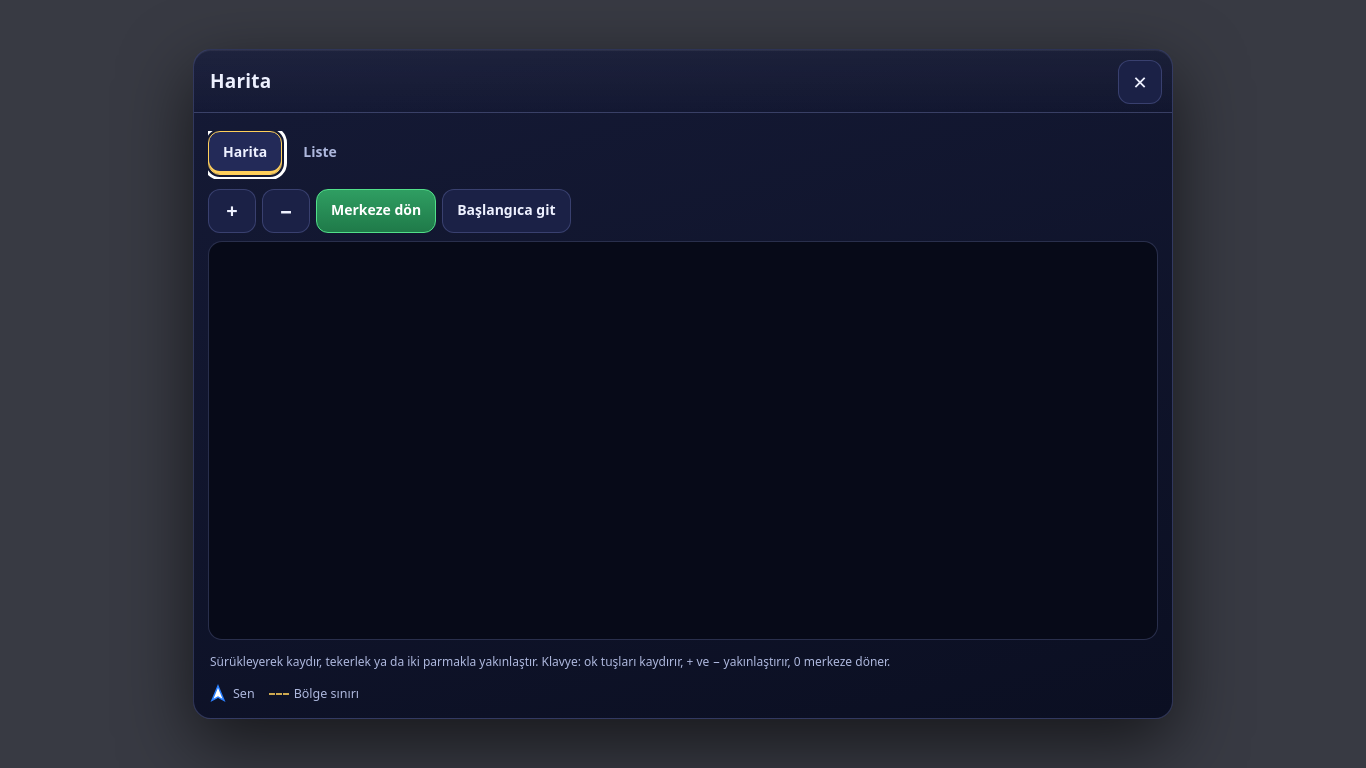
it: MapScreen › hiç yer yoksa liste boş mesajı gösterir
Click the tab "Liste": {"x": 320, "y": 153} [288,131,352,175]
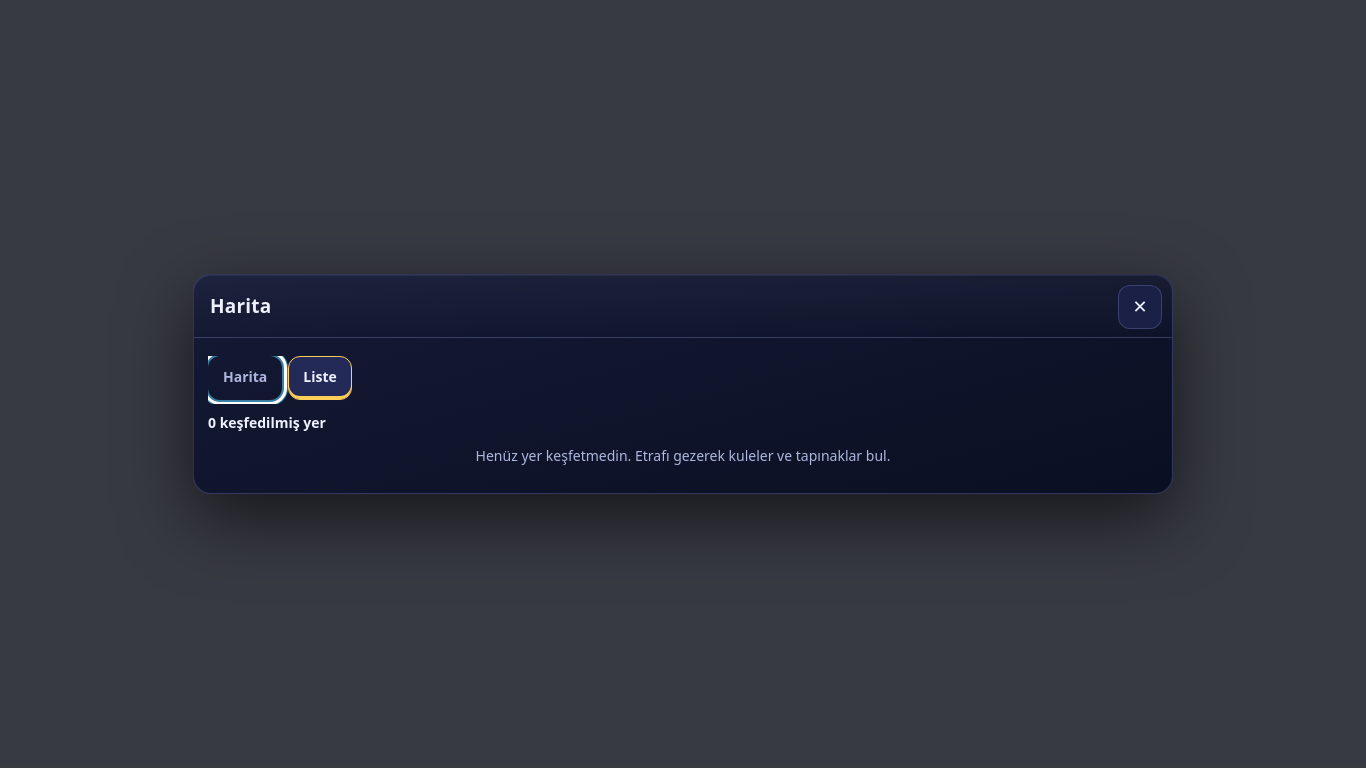
Now the text "Henüz yer keşfetmedin" is shown, box [476,446,890,464]
